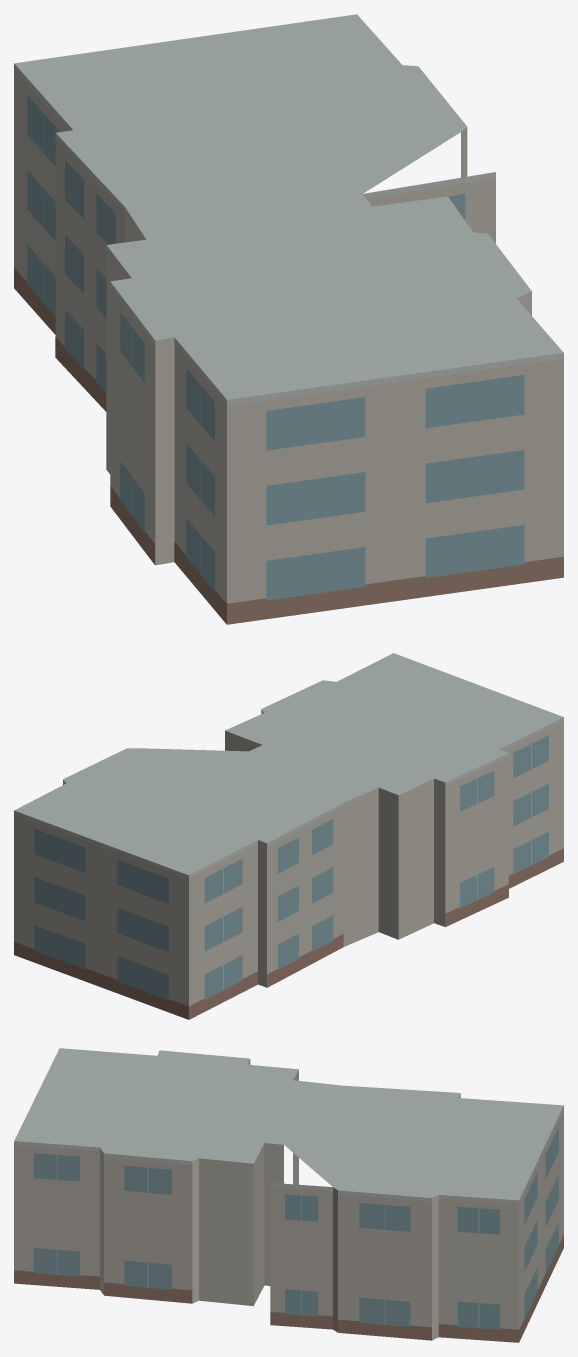
The model's file is survey-upis-32470403.glb.
The picture shows the model from 3 angles, top to bottom: view 1: azimuth 30°, elevation 25°; view 2: azimuth 150°, elevation 25°; view 3: azimuth 270°, elevation 25°; orthographic projection. The views are drawn at different scales.
Parts seen in each view (by area): view 1: survey-upis-32470403.tmp; view 2: survey-upis-32470403.tmp; view 3: survey-upis-32470403.tmp.
Part boxes in pixels (box(x1,y1,x2,y2)): survey-upis-32470403.tmp: box(14, 14, 563, 624); survey-upis-32470403.tmp: box(14, 653, 563, 1019); survey-upis-32470403.tmp: box(14, 1048, 563, 1342).
Size of the model in its own units: 20.99 by 9.15 by 32.02.
